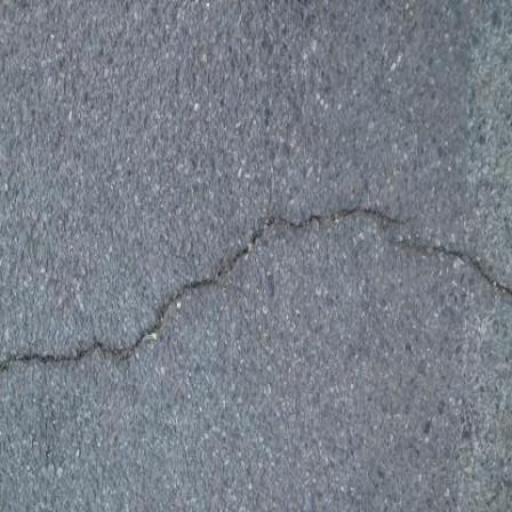spalling: (7, 189, 511, 390)
